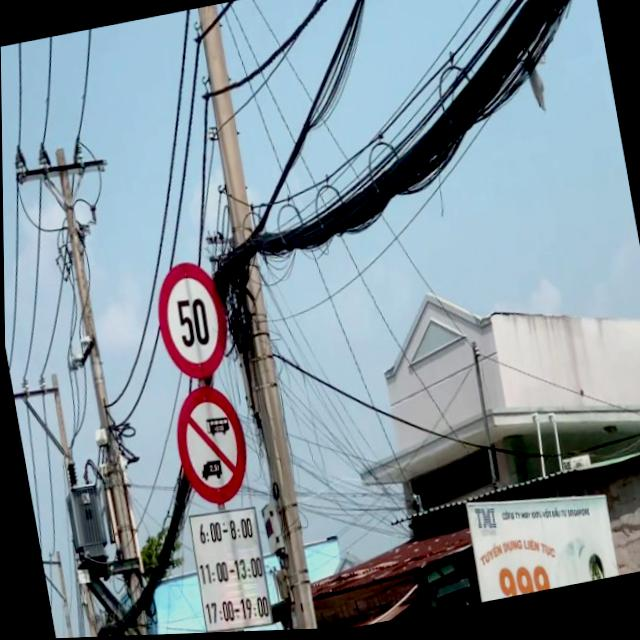Toc do toi da cho phep: (148, 252, 238, 387)
